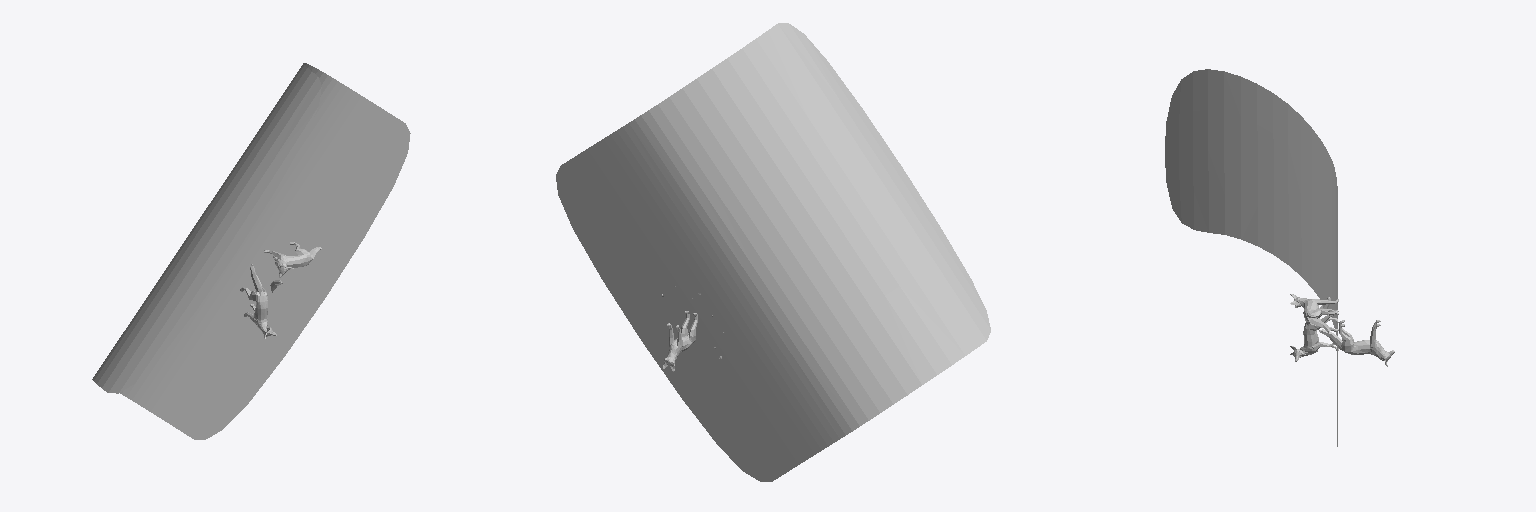
The model's file is Fox.obj.
3 views of the same model, side by side, from view 1: azimuth 30°, elevation 25°; view 2: azimuth 150°, elevation 25°; view 3: azimuth 270°, elevation 25° (orthographic).
Visible parts, largest first — view 1: <STL_BINARY>; view 2: <STL_BINARY>; view 3: <STL_BINARY>.
Boxes of the visible parts, x1,y1,x2,y2 form: <STL_BINARY>: [92, 63, 410, 439]; <STL_BINARY>: [556, 23, 990, 481]; <STL_BINARY>: [1165, 69, 1394, 446].
Size of the model in its own units: 47.93 by 49.86 by 26.12.